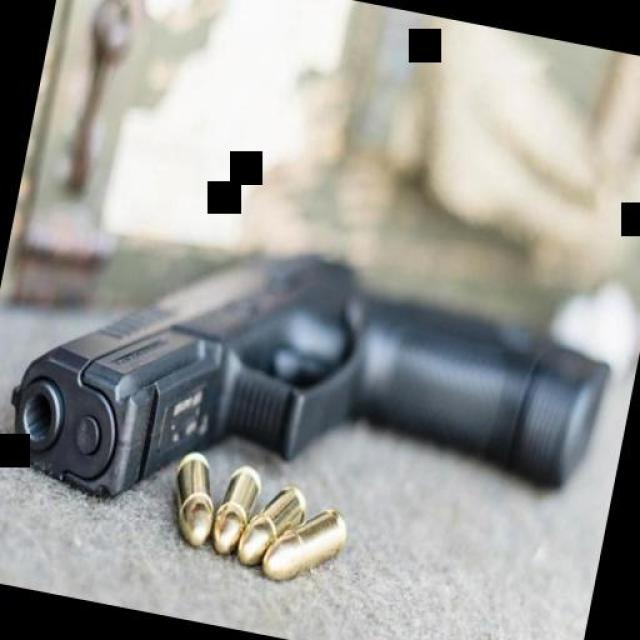gun: (0, 192, 626, 592)
